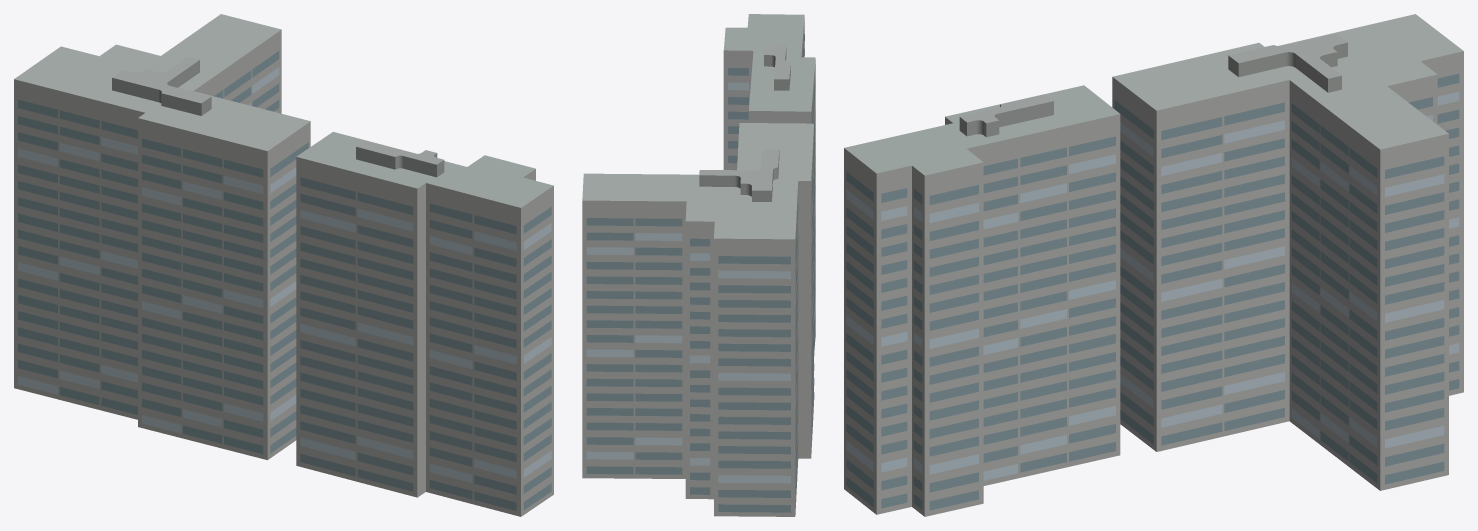
File: apt-a13184301.glb
The picture shows the model from 3 angles, left to right: view 1: azimuth 30°, elevation 25°; view 2: azimuth 150°, elevation 25°; view 3: azimuth 270°, elevation 25°; orthographic projection. The views are drawn at different scales.
Parts seen in each view (by area): view 1: apt-a13184301; view 2: apt-a13184301; view 3: apt-a13184301.
Part boxes in pixels (x1,y1,x2,y2): apt-a13184301: (14,14,553,516); apt-a13184301: (582,14,815,516); apt-a13184301: (844,14,1463,516).
Size of the model in its own units: 59.52 by 61 by 96.45.
